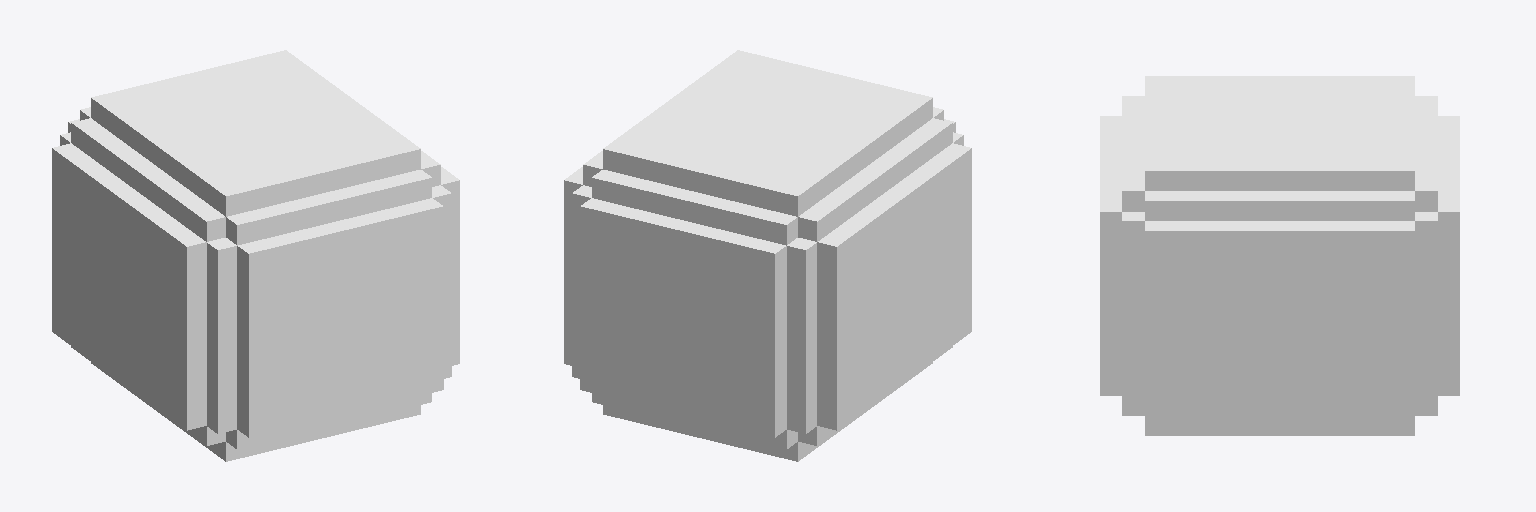
The model's file is slime_a-1-step_L.obj.
3 renders of one model, left to right at view 1: azimuth 30°, elevation 25°; view 2: azimuth 150°, elevation 25°; view 3: azimuth 270°, elevation 25°, orthographic.
Visible parts, largest first — view 1: step_L; view 2: step_L; view 3: step_L.
Boxes of the visible parts, x1=… form: step_L: x1=52, y1=50, x2=459, y2=461; step_L: x1=564, y1=50, x2=971, y2=461; step_L: x1=1100, y1=76, x2=1459, y2=435.
Bounding box in the file's own units: 1.4 × 1.3 × 1.6.